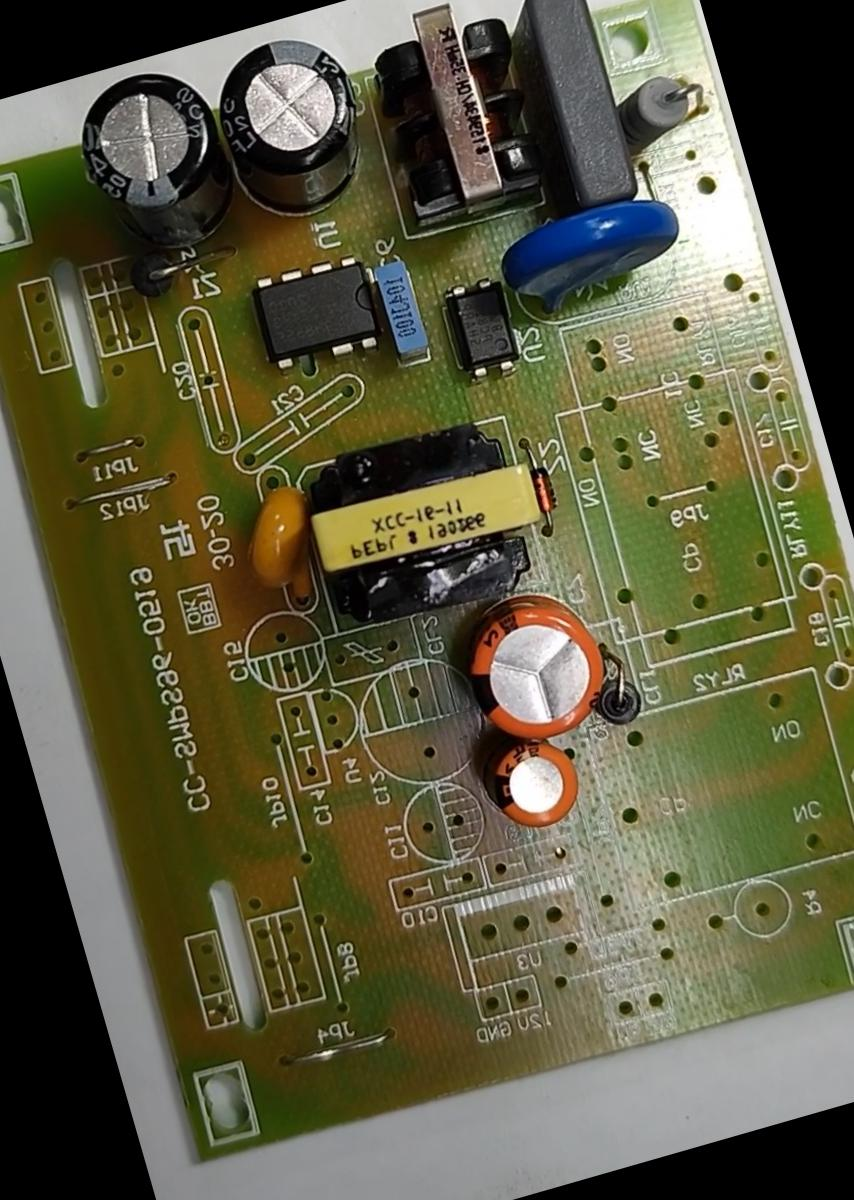Cap1: (436, 568, 628, 762)
Cap2: (460, 718, 604, 857)
Cap3: (191, 12, 392, 238)
Cap4: (52, 49, 248, 280)
MOSFET: (222, 228, 410, 390)
Mov: (478, 173, 710, 340)
Resistor: (600, 60, 724, 168)
Transformer: (266, 394, 566, 654), (345, 0, 565, 242)
